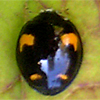Two_spots_mutant: (14, 10, 83, 95)
